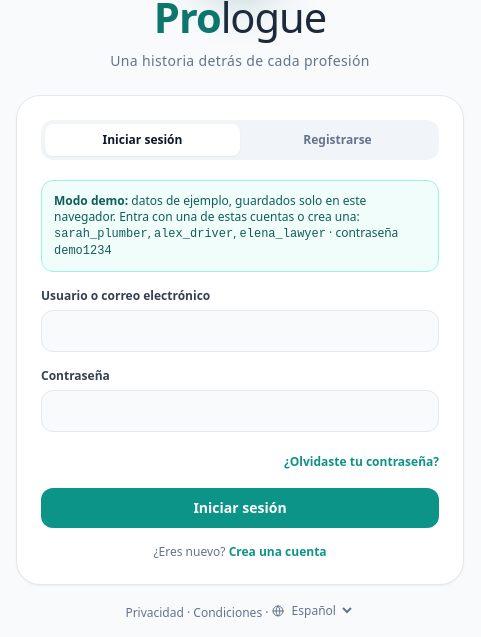
Test: in the app › opens in the chosen language and can be switched on the login screen
The width and height of the screenshot is (481, 637).
(page scrolled)
Expected: the tab "Iniciar sesión" is shown, [45,124,240,156]
Expected: the text "Una historia detrás de cada profesión" is shown, [110,51,370,71]
Select "日本語" in the dropdown named "Idioma" at (321, 610), box [288,601,355,620]
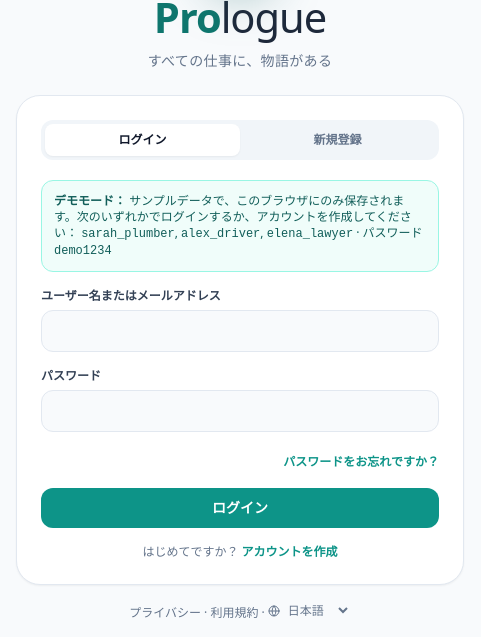
Expected: the tab "ログイン" is shown, [45,124,240,156]
Select "English" in the dropdown named "言語" at (317, 610), box [284,601,351,620]
(page scrolled)
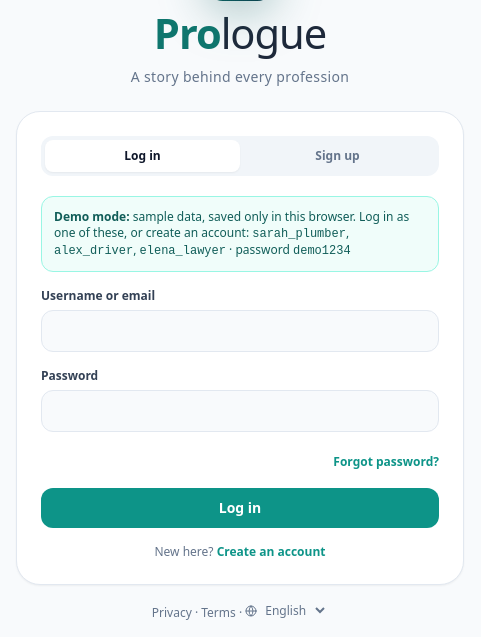
Expected: the tab "Log in" is shown, [45,140,240,172]
